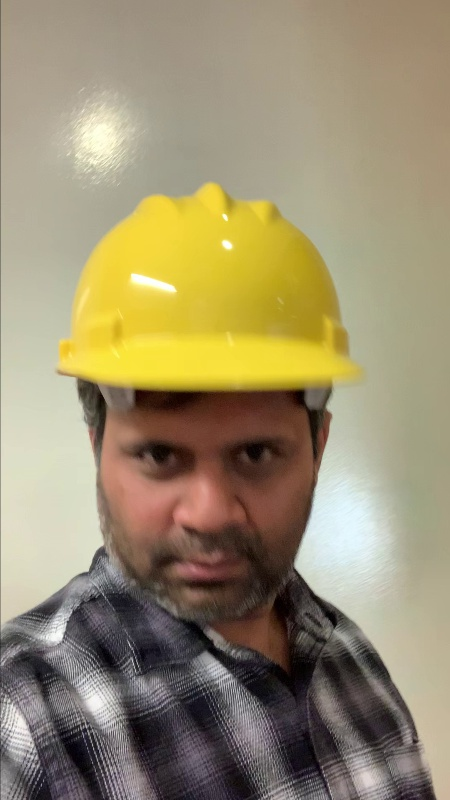helmet: (47, 176, 359, 394)
